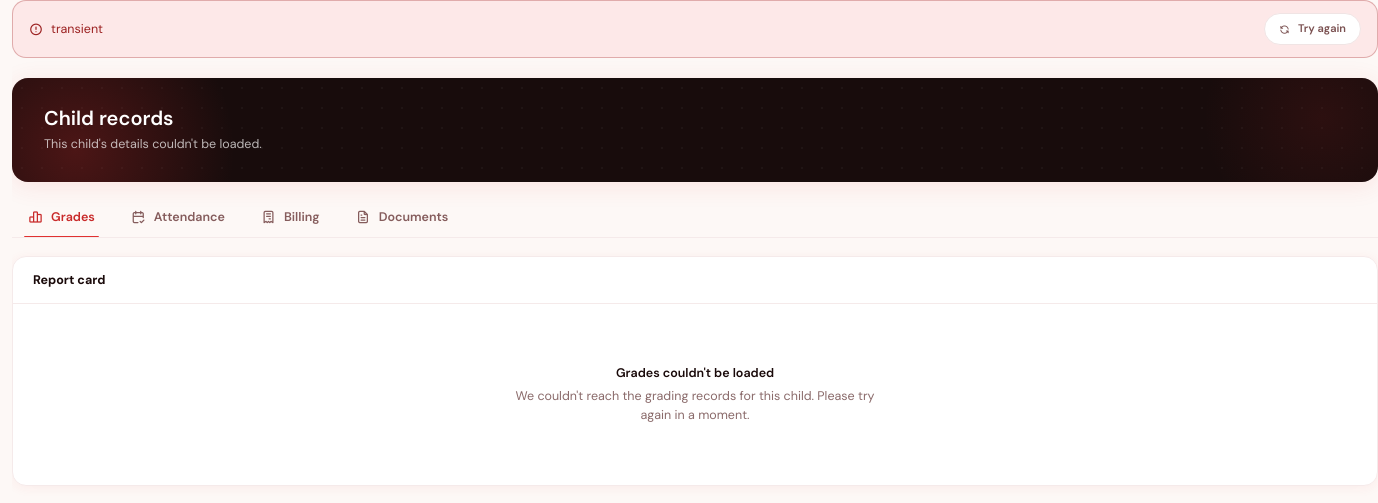
GuardianChildPage — one failed call can't strand the other sections › offers a retry when the page-level load fails
Click the button "Try again". click: (1312, 29)
box: x1=1264 y1=13 x2=1361 y2=45
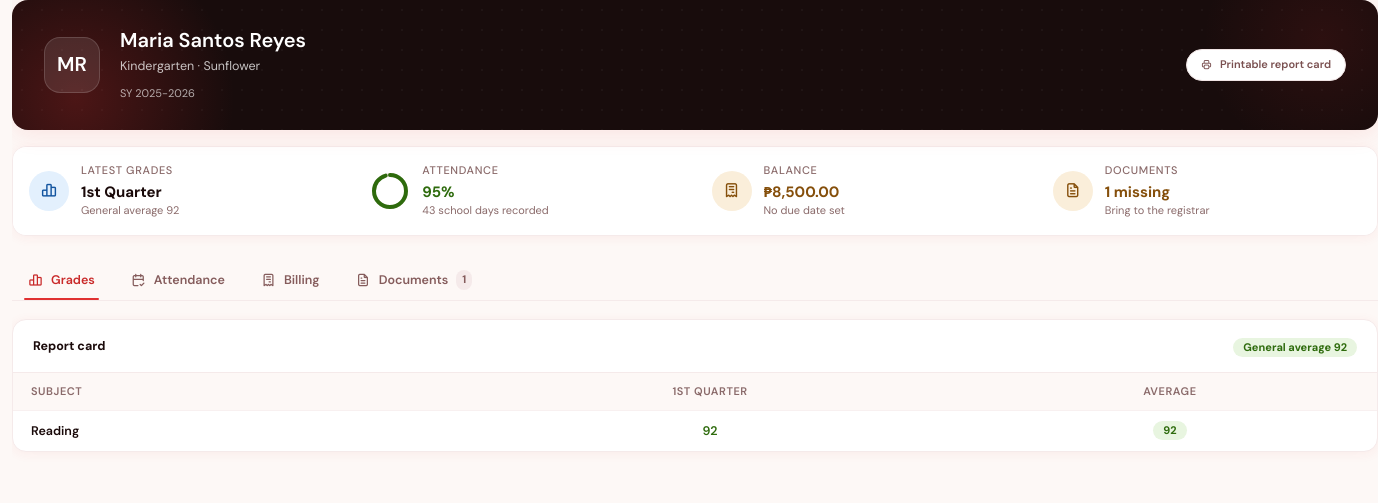
Expected: the heading "Maria Santos Reyes" is shown, x1=120 y1=27 x2=306 y2=53
